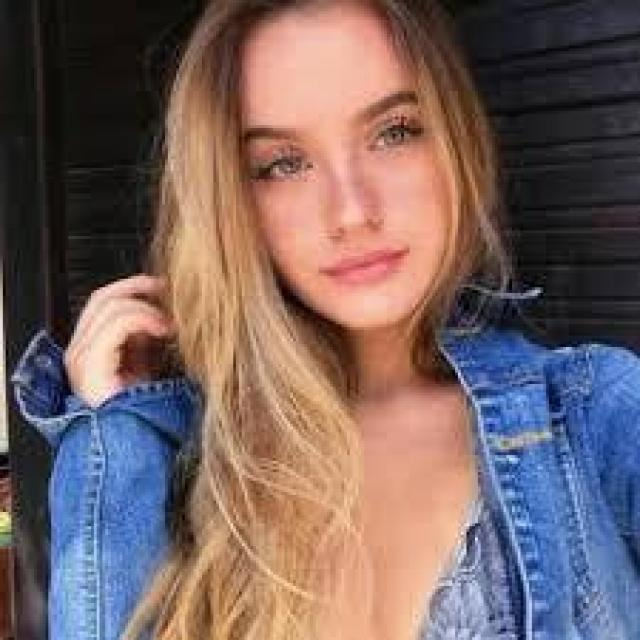person: (66, 0, 632, 637)
